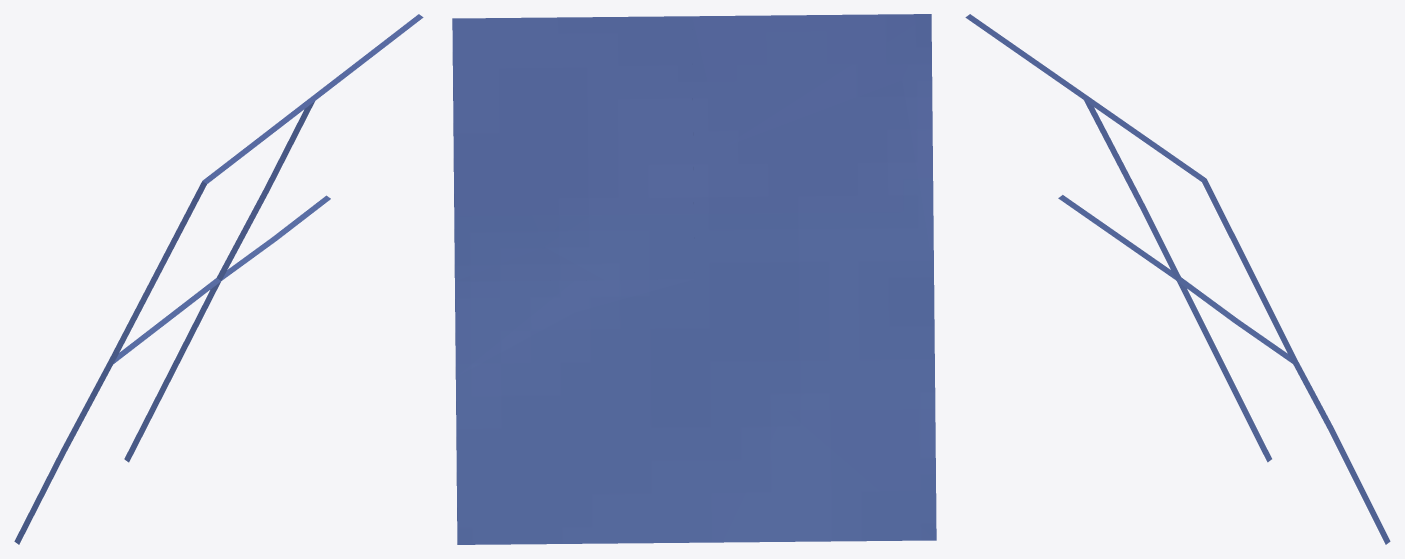
3 views of the same model, side by side, from view 1: azimuth 30°, elevation 25°; view 2: azimuth 150°, elevation 25°; view 3: azimuth 270°, elevation 25° (orthographic). The views are drawn at different scales.
Bounding box in the file's own units: 4918 × 4429 × 4139.
1 material, 1 textured.
